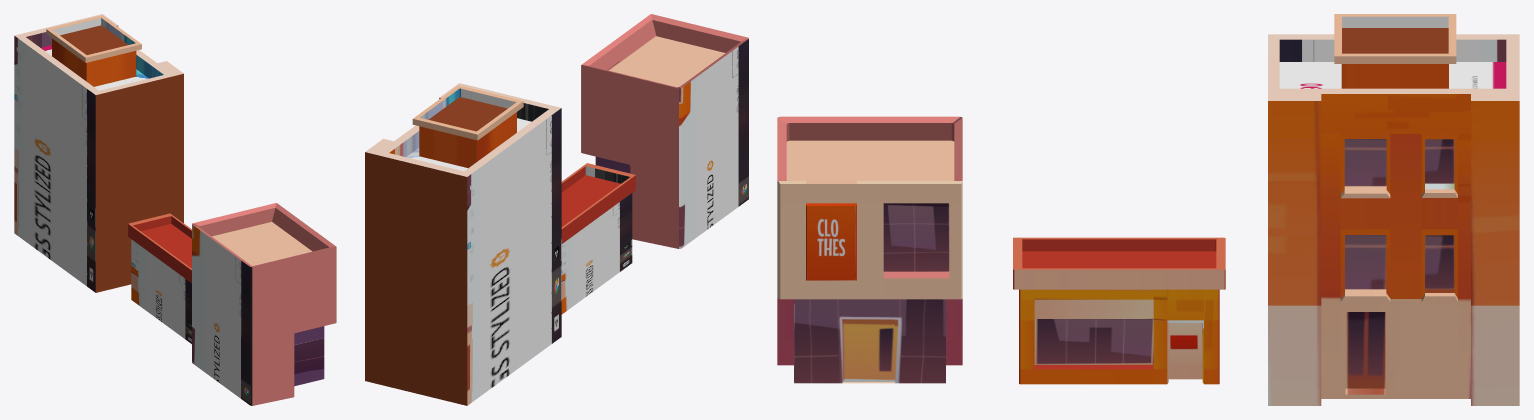
The model's file is clothshop3.fbx.
The picture shows the model from 3 angles, left to right: view 1: azimuth 30°, elevation 25°; view 2: azimuth 150°, elevation 25°; view 3: azimuth 270°, elevation 25°; orthographic projection. The views are drawn at different scales.
Visible parts, largest first — view 1: Cube.003, Cube, Cube.002, Cube.001; view 2: Cube.003, Cube, Cube.002; view 3: Cube.003, Cube, Cube.002, Cube.001.
Part boxes in pixels (x1,y1,x2,y2): Cube.003: [14, 14, 183, 292]; Cube: [192, 203, 336, 405]; Cube.002: [128, 213, 191, 343]; Cube.001: [294, 326, 324, 386]; Cube.003: [365, 83, 561, 405]; Cube: [581, 14, 748, 248]; Cube.002: [561, 163, 635, 314]; Cube.003: [1268, 14, 1519, 405]; Cube: [777, 116, 962, 365]; Cube.002: [1013, 237, 1225, 384]; Cube.001: [794, 299, 945, 383].
Bounding box in the file's own units: 461 × 1037 × 2088.
